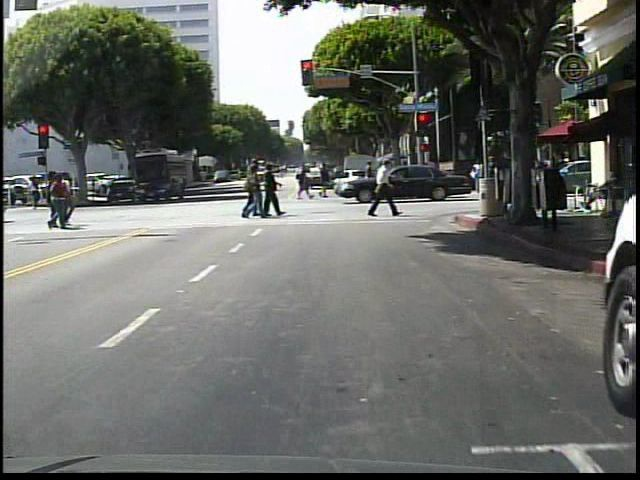person: (363, 156, 405, 224)
